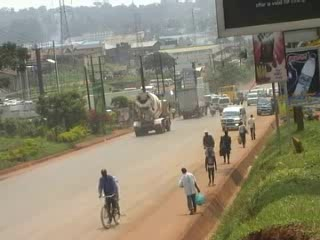Car: (244, 91, 259, 107)
Motorcycle: (207, 103, 215, 117)
